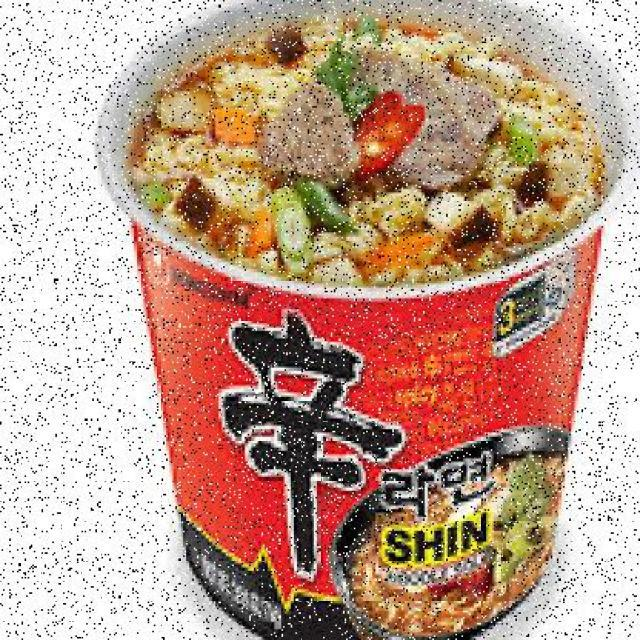Miscellaneous: (100, 0, 618, 640)
